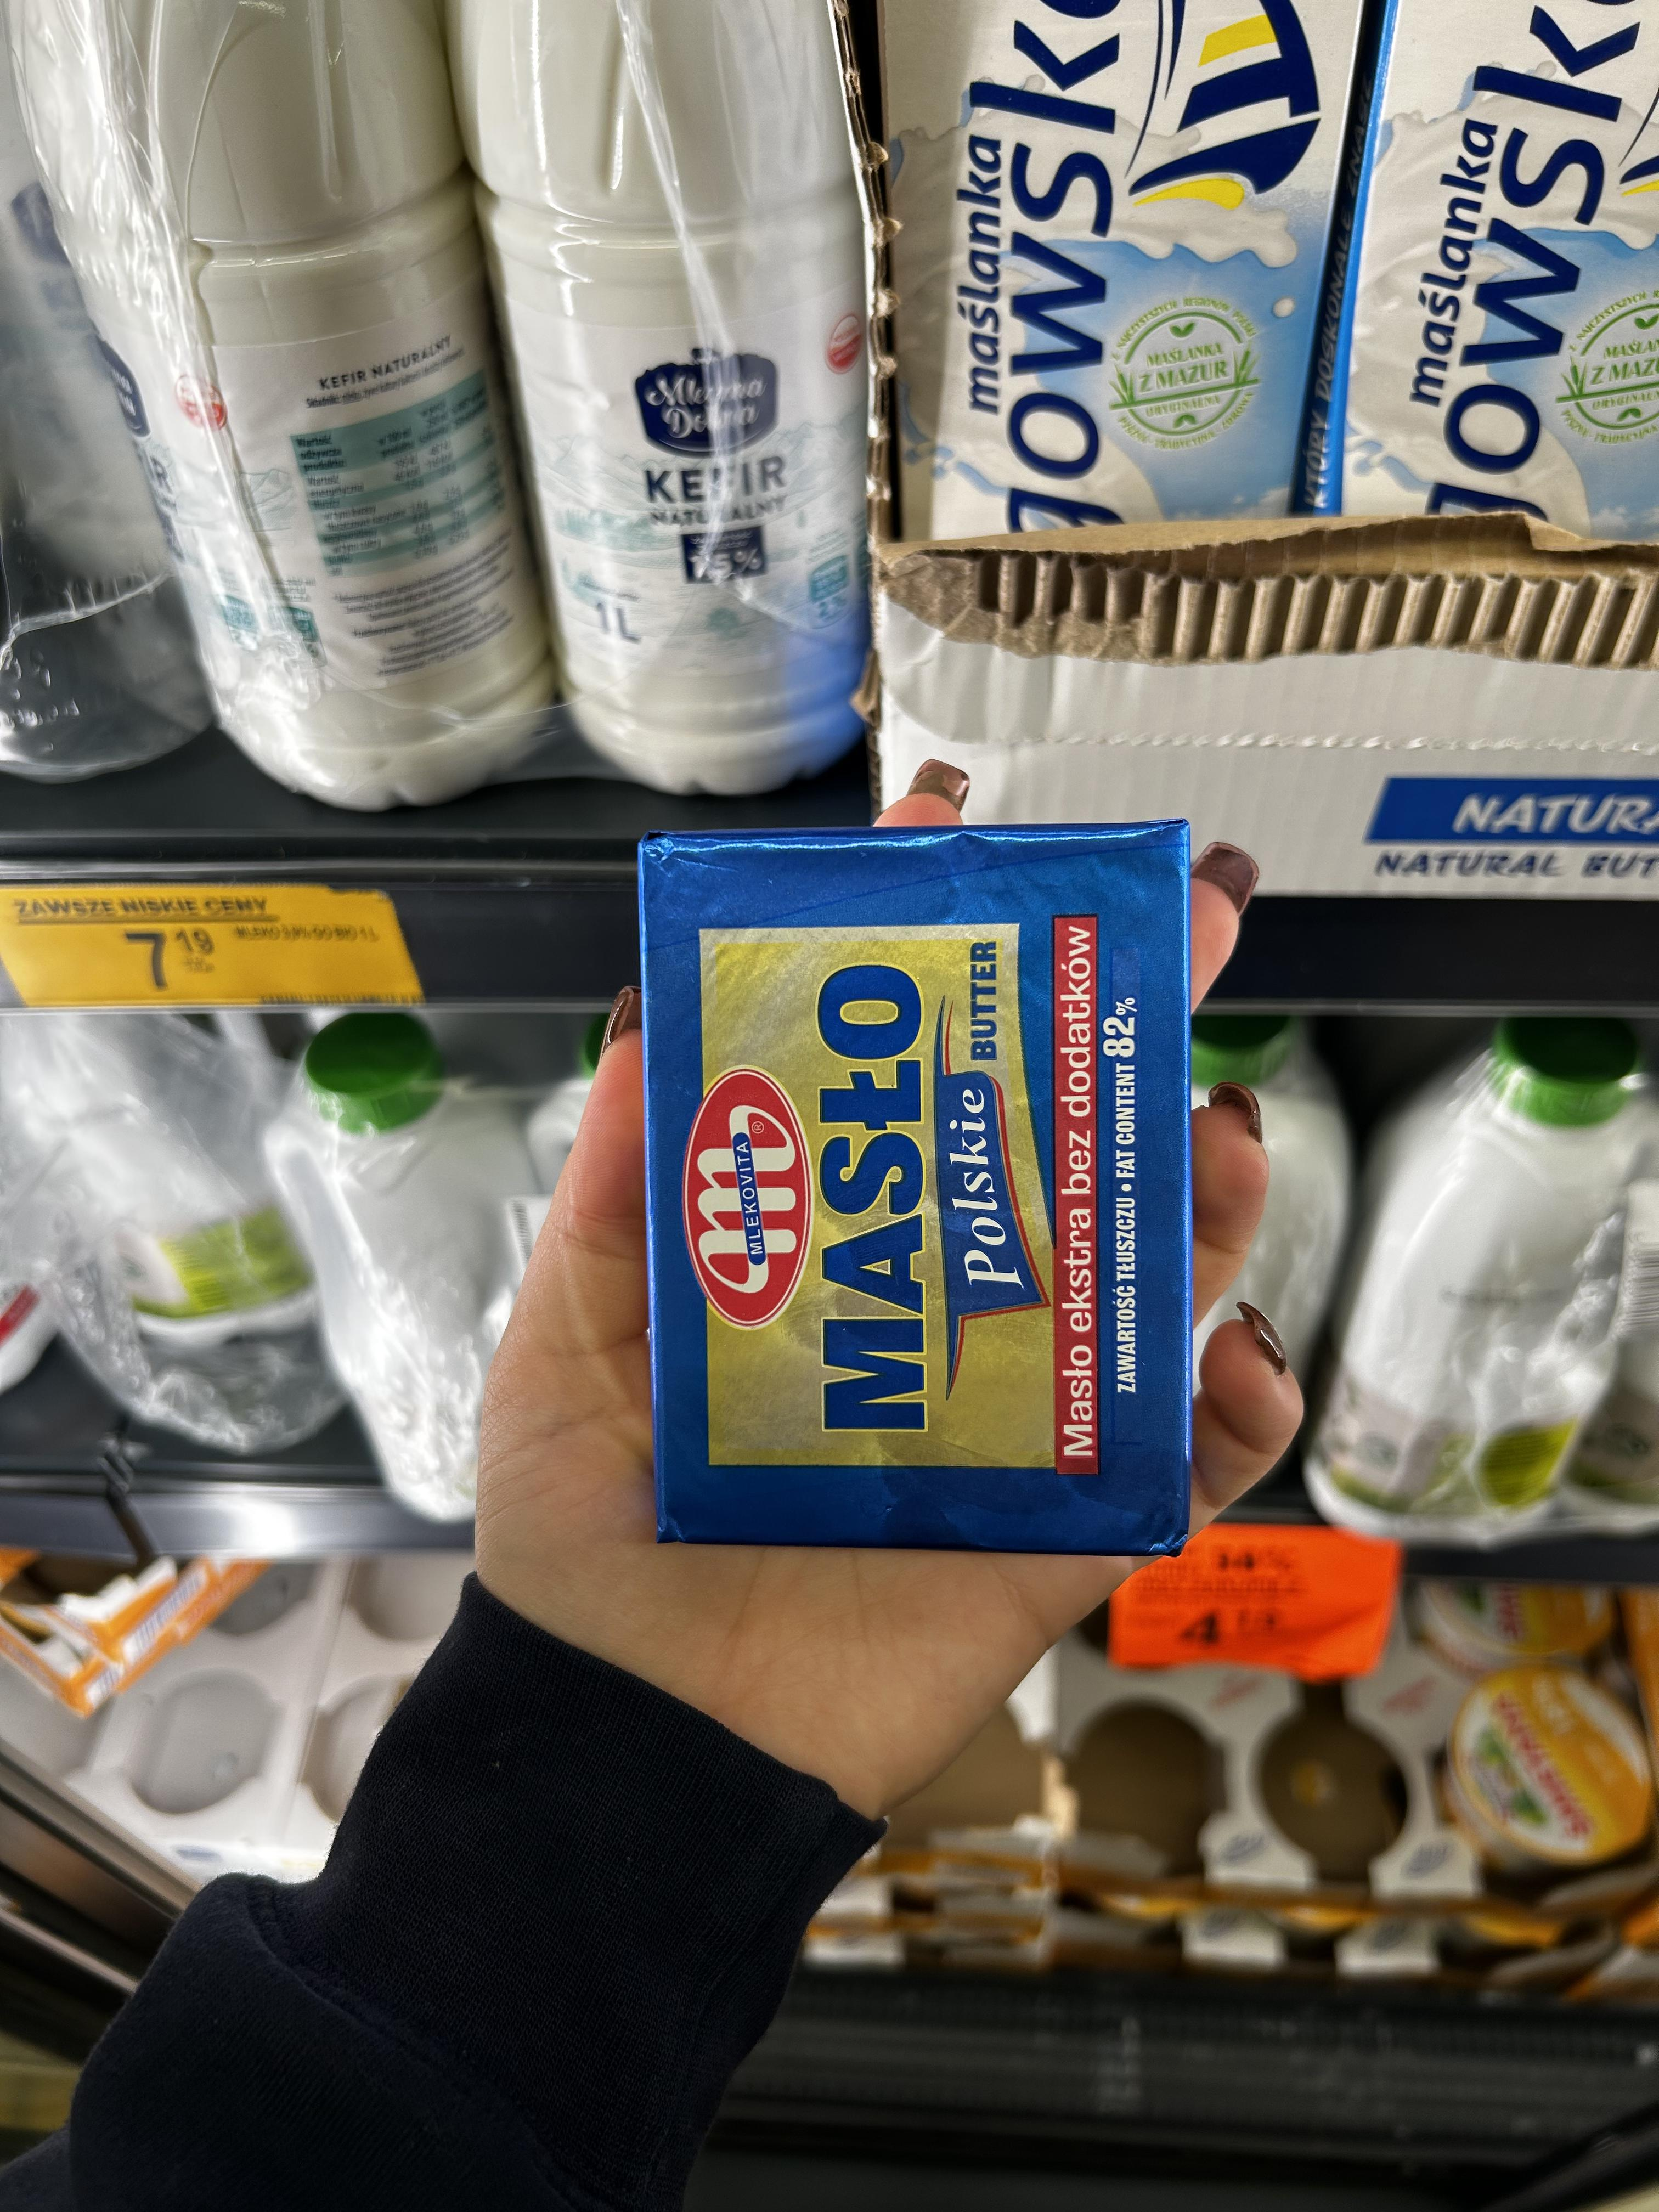Butter: (615, 812, 1256, 1583)
